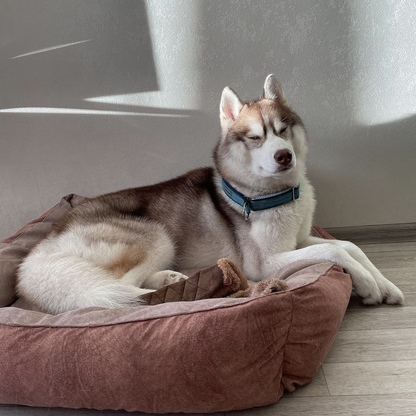husky: (11, 67, 407, 336)
